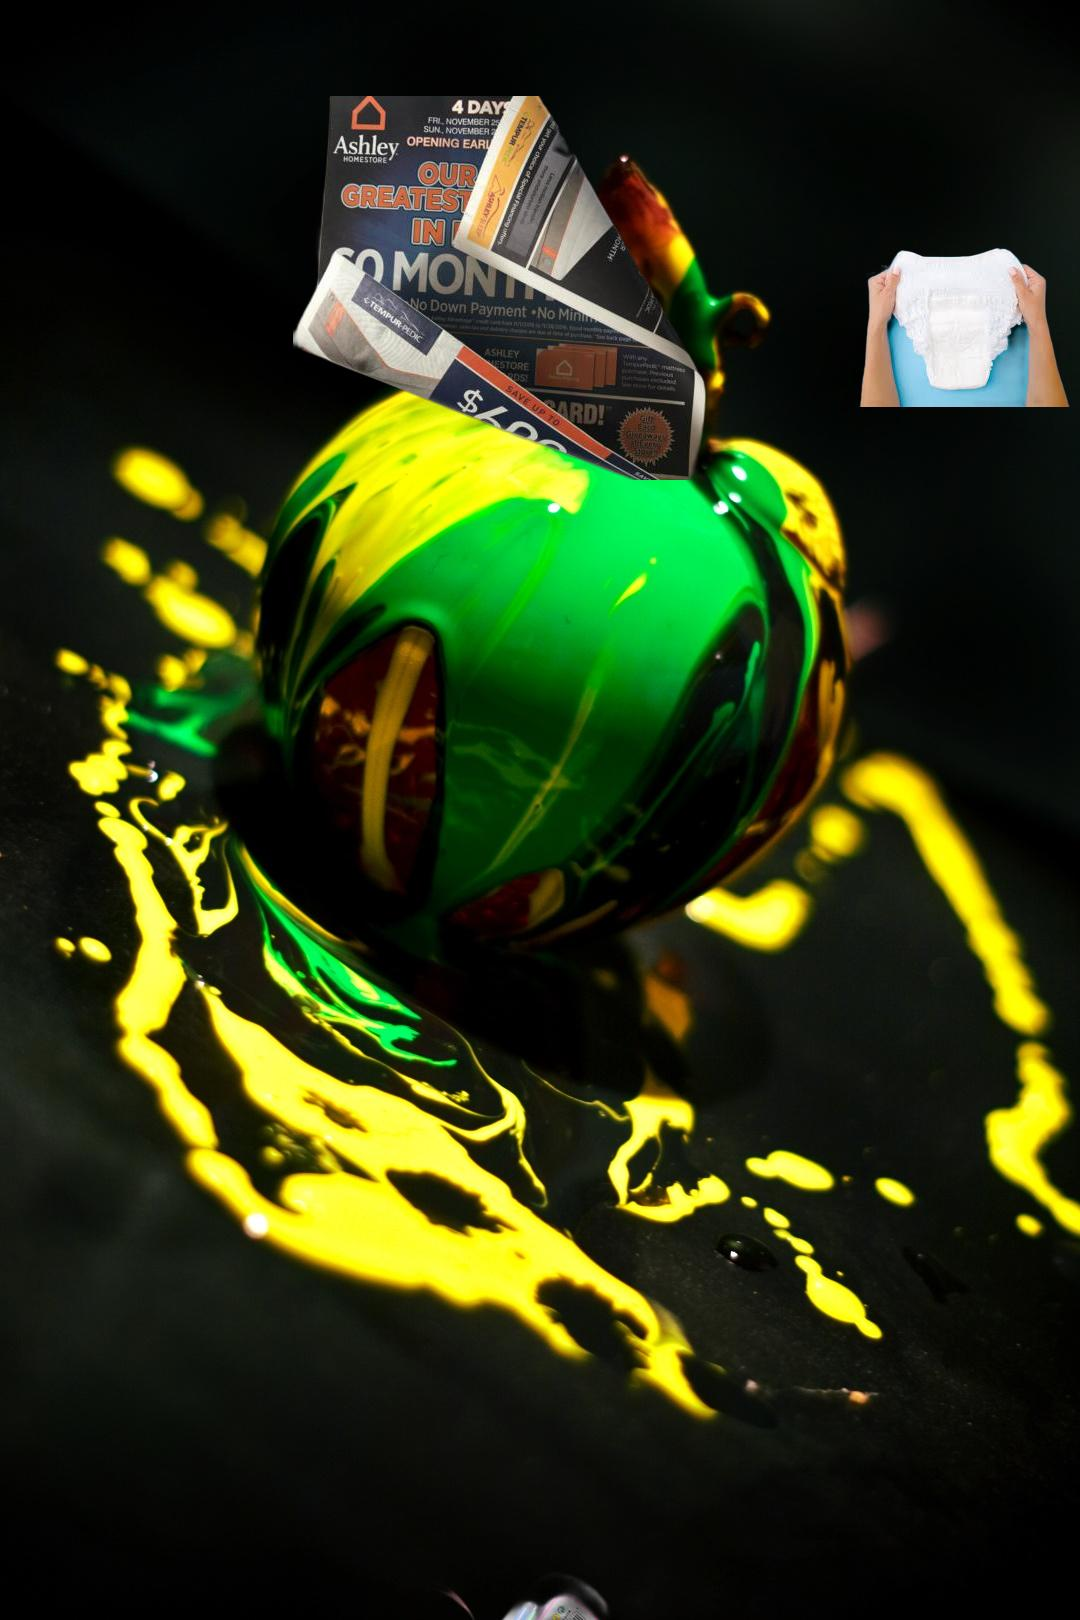glass: (1040, 607, 1080, 1250)
paper: (293, 96, 711, 480)
penholder: (354, 1568, 910, 1620)
trash: (858, 245, 1080, 407)
